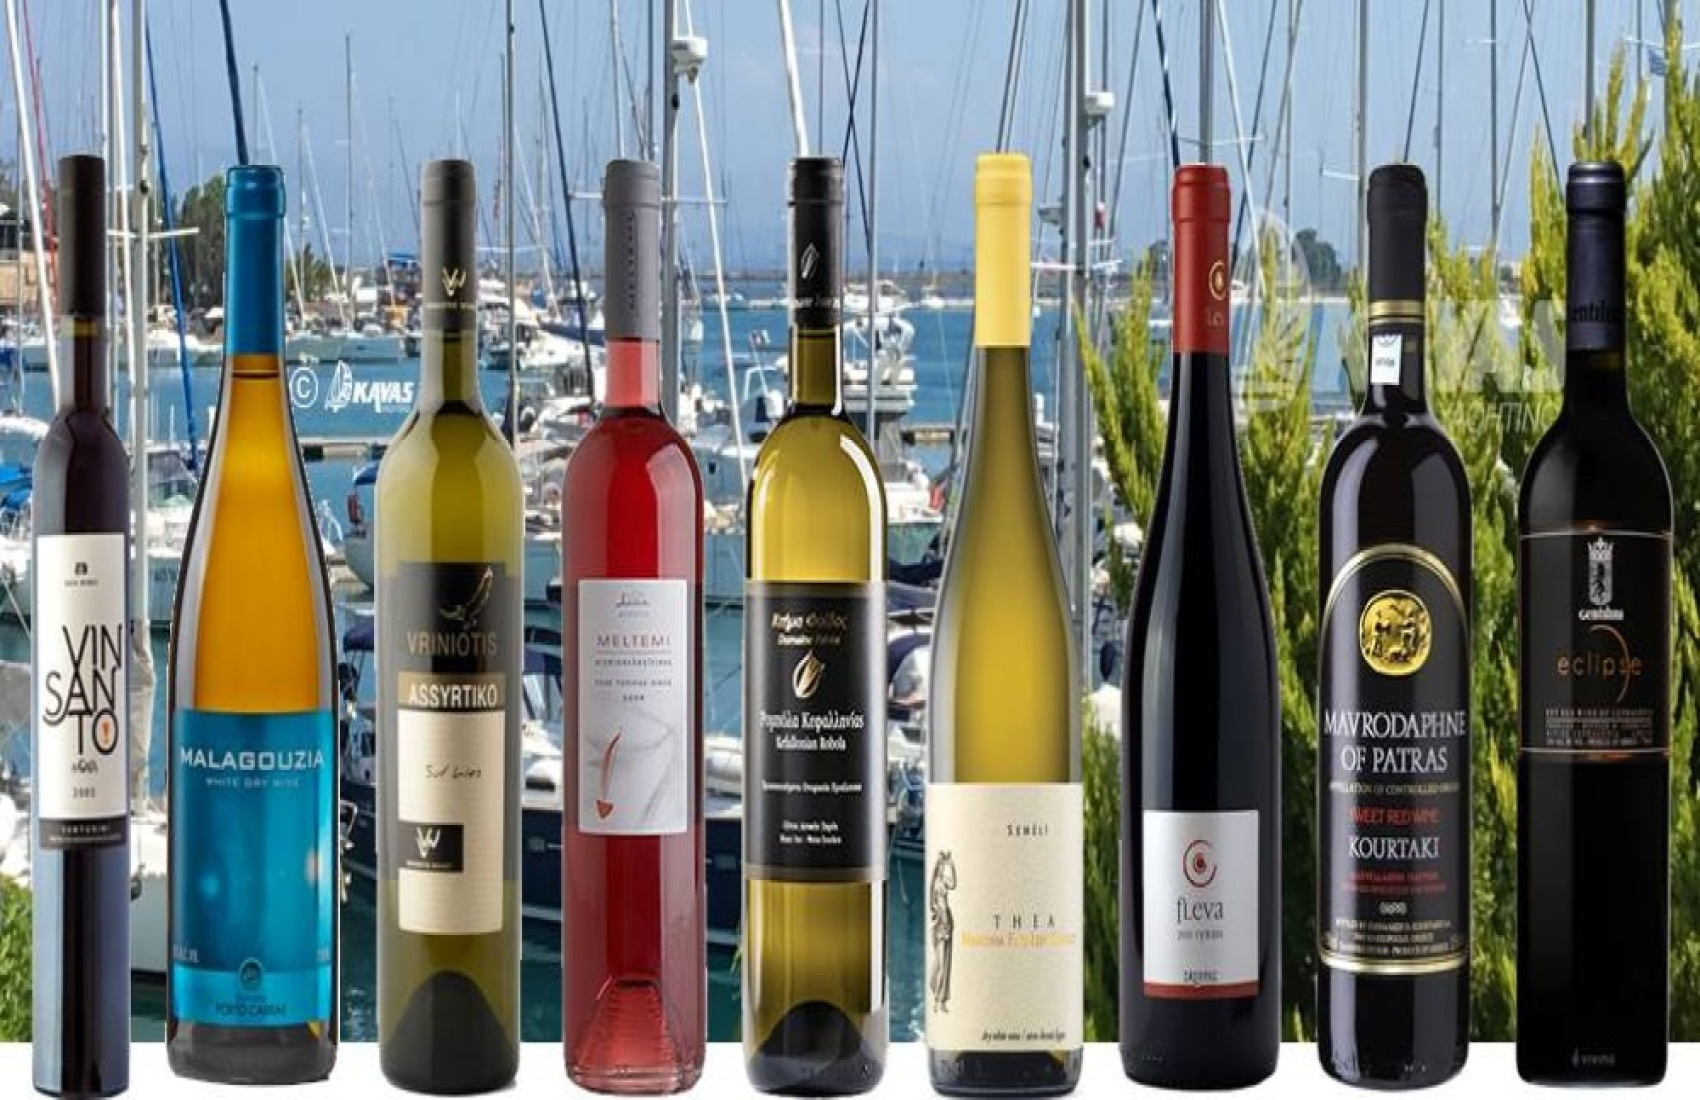wine: (368, 162, 522, 1100), (555, 162, 709, 1100), (173, 172, 322, 1086), (1523, 145, 1667, 1073), (746, 162, 888, 1090), (933, 165, 1076, 1093), (1128, 152, 1270, 1080), (1307, 152, 1450, 1080), (31, 170, 133, 1098)
